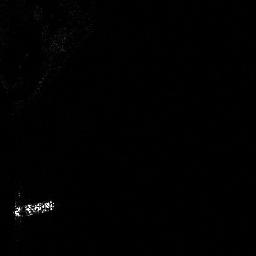ship: (9, 188, 57, 222)
